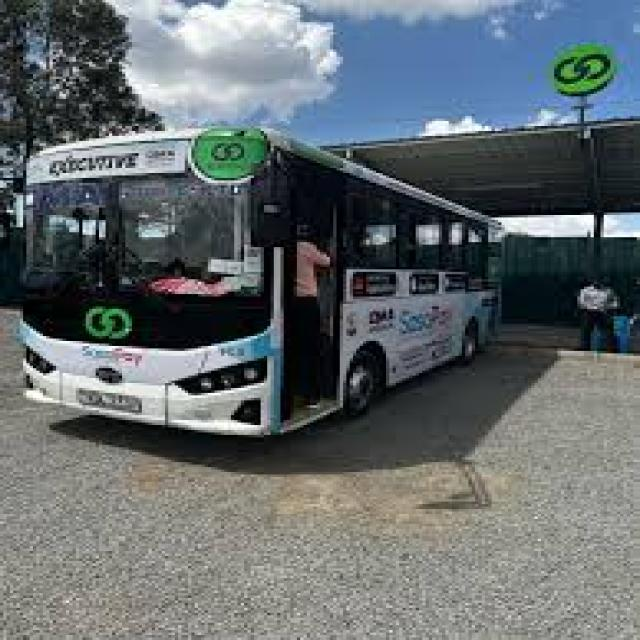bus: (0, 60, 521, 452)
